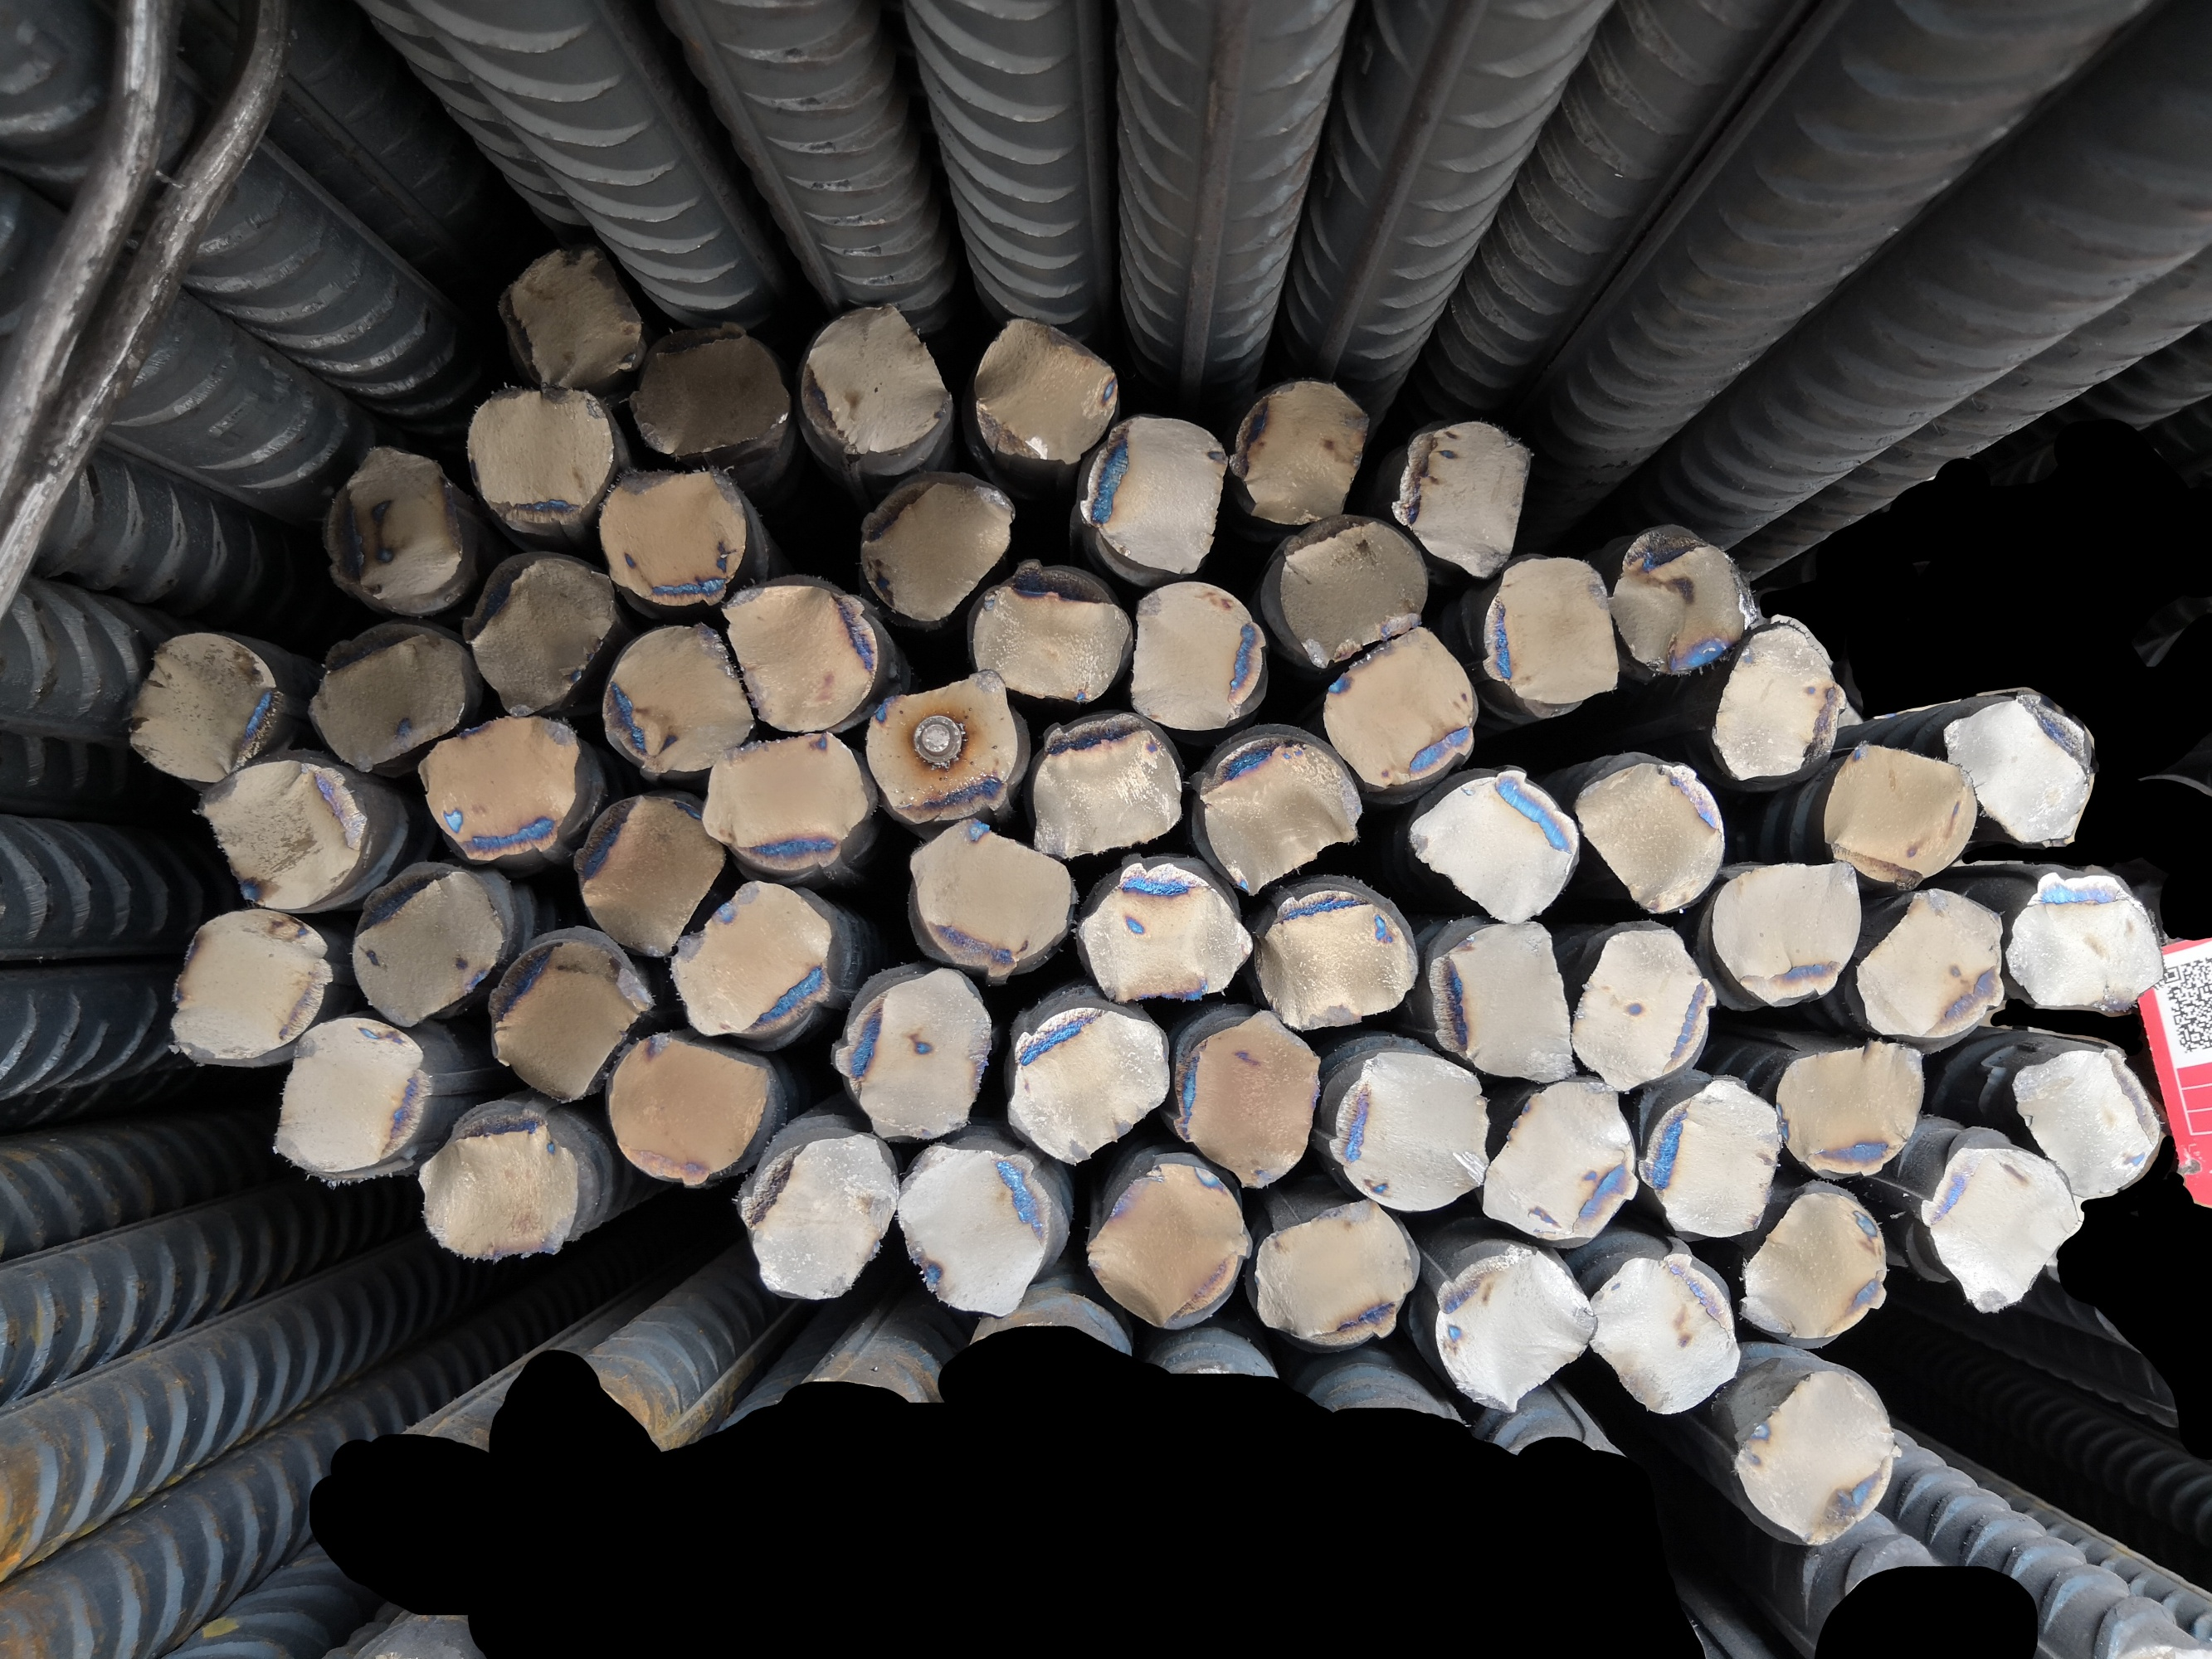rebar: (1079, 1155, 1257, 1335), (481, 931, 659, 1105), (1731, 1366, 1900, 1549), (831, 962, 997, 1145), (1403, 756, 1581, 925), (1191, 730, 1367, 897), (270, 1014, 436, 1192), (661, 877, 838, 1042), (1919, 1136, 2083, 1316), (896, 1136, 1055, 1321), (734, 1129, 901, 1304), (899, 816, 1077, 979), (1478, 1072, 1642, 1249), (190, 755, 373, 913), (1004, 1002, 1177, 1169), (1173, 1007, 1325, 1195), (321, 437, 478, 619), (603, 1023, 772, 1190), (1579, 1249, 1745, 1420), (1318, 620, 1483, 789), (1435, 1243, 1597, 1415), (568, 786, 727, 962), (417, 1096, 584, 1262), (167, 904, 336, 1068), (959, 549, 1135, 706), (1077, 852, 1255, 1007), (1937, 690, 2100, 857), (1569, 913, 1717, 1098), (460, 545, 619, 716), (1067, 413, 1231, 577), (302, 619, 472, 775), (598, 617, 760, 781), (856, 464, 1020, 626), (1328, 1046, 1490, 1209), (120, 622, 282, 784), (2003, 861, 2167, 1021), (797, 298, 955, 464), (2008, 1037, 2165, 1204), (413, 713, 582, 868), (1422, 917, 1578, 1086), (1271, 511, 1433, 671), (349, 864, 507, 1028), (1572, 749, 1727, 917), (1248, 1195, 1417, 1349), (1849, 885, 2010, 1046), (861, 666, 1021, 823), (1604, 519, 1761, 680), (1637, 1073, 1783, 1244), (697, 727, 872, 870), (1818, 737, 1982, 889), (718, 579, 875, 735), (1734, 1192, 1891, 1347), (1386, 416, 1537, 577), (1255, 885, 1421, 1032), (1028, 709, 1185, 863), (971, 310, 1121, 469), (1706, 859, 1865, 1009), (1710, 624, 1851, 789), (1222, 373, 1374, 526), (596, 464, 753, 610), (1478, 551, 1621, 711), (629, 315, 791, 457), (465, 385, 617, 535), (1771, 1037, 1930, 1180), (500, 240, 648, 392), (1126, 573, 1269, 730)
